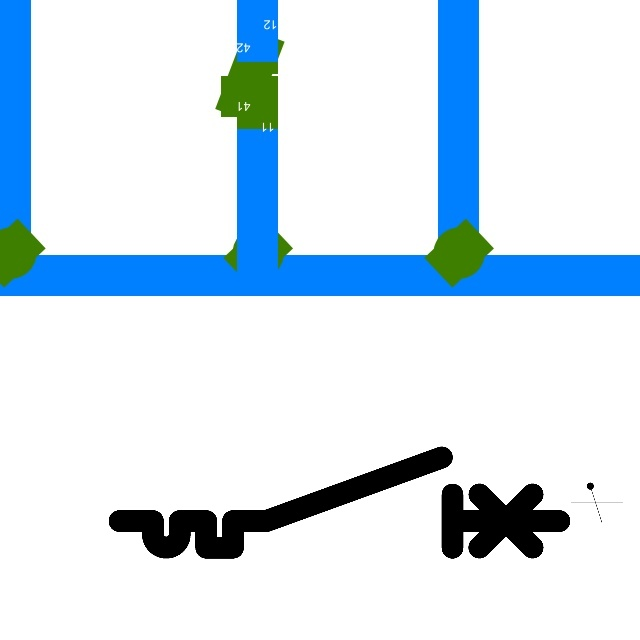interruptor_termomagnetico: (108, 446, 570, 559)
